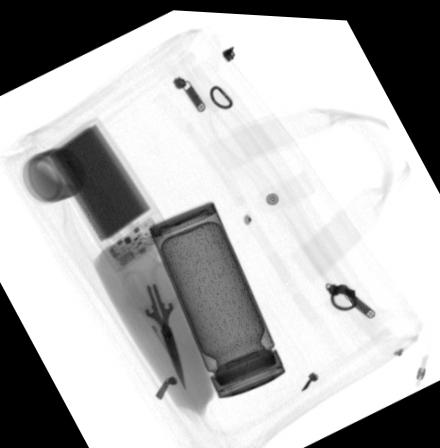Powerbank: (42, 112, 173, 267)
Scissors: (120, 252, 192, 386)
